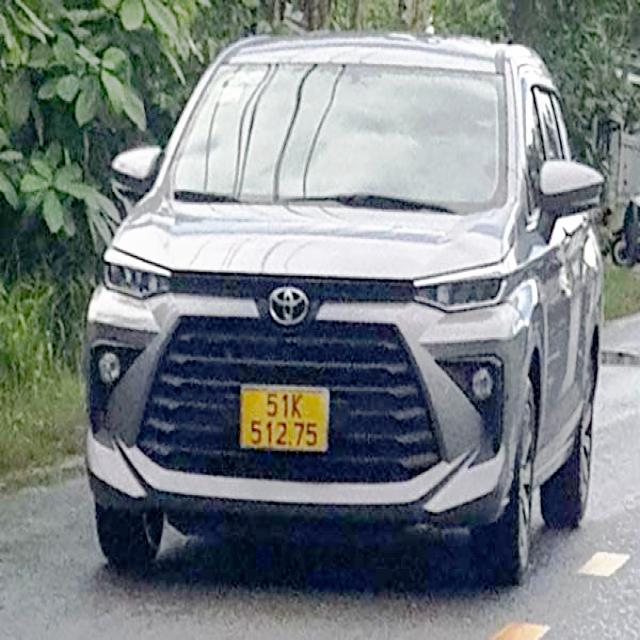license_plate: (241, 385, 330, 452)
